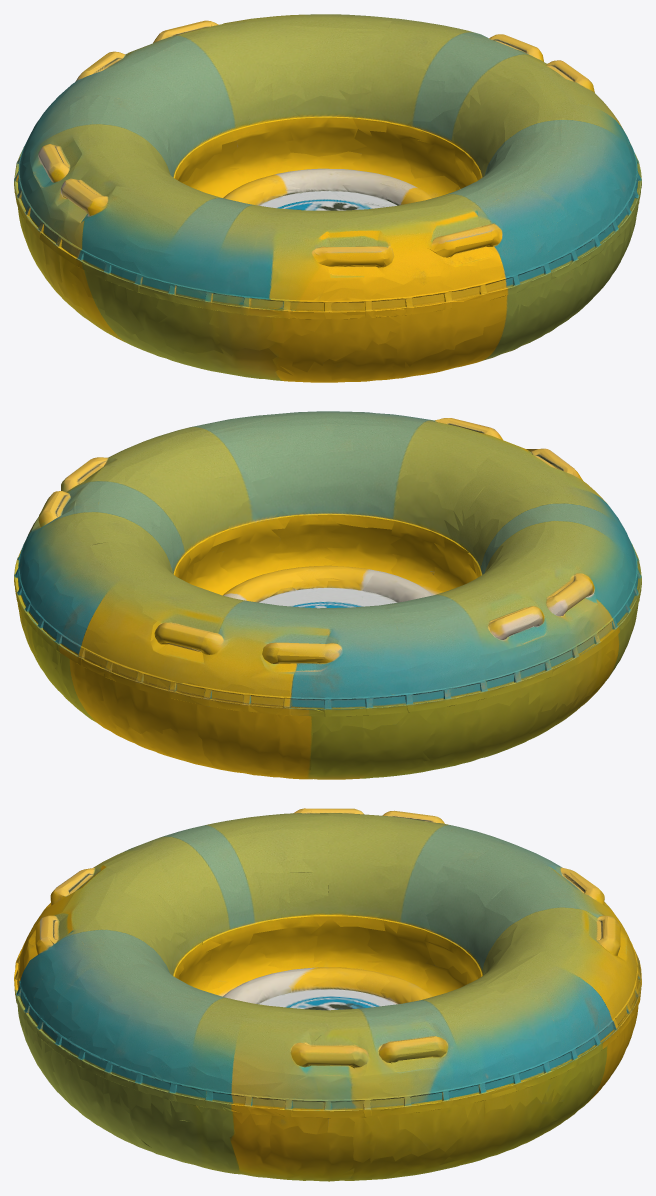
The model's file is ciambella.glb.
The picture shows the model from 3 angles, top to bottom: view 1: azimuth 30°, elevation 25°; view 2: azimuth 150°, elevation 25°; view 3: azimuth 270°, elevation 25°; orthographic projection.
Size of the model in its own units: 1.9 by 0.5267 by 1.9.
Materials: 1 (1 with a texture image).
